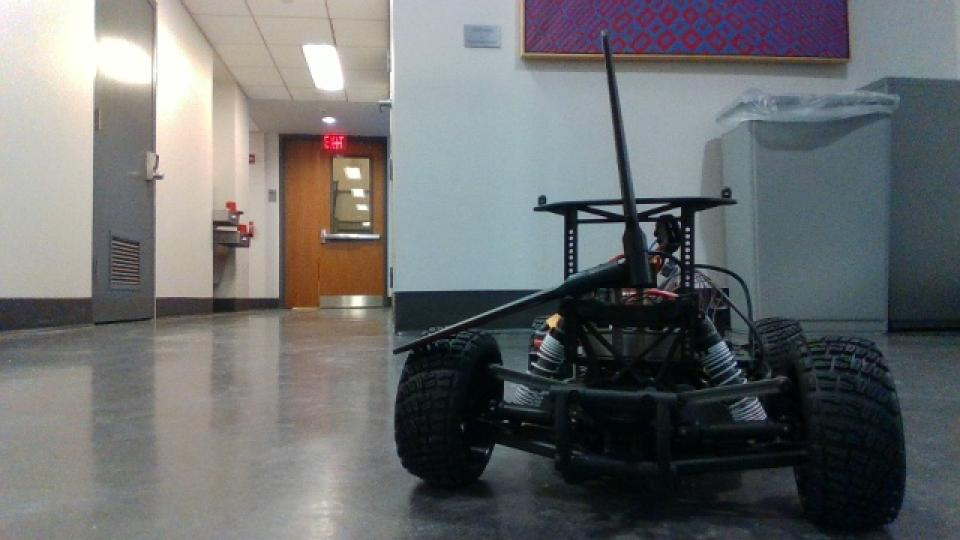car: (388, 27, 910, 533)
